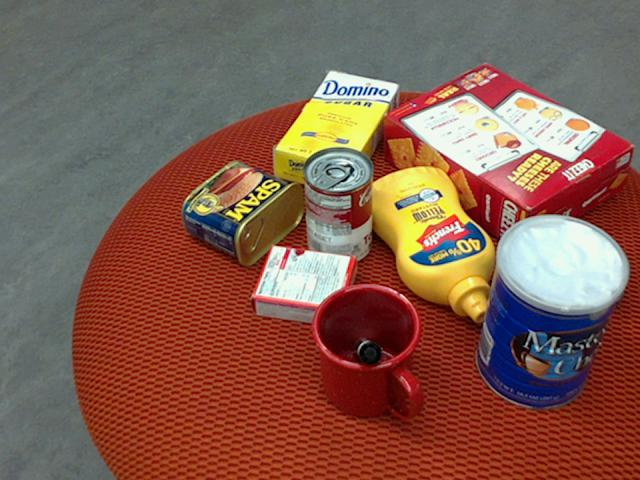cracker_box: (382, 62, 631, 252)
gelatin_box: (247, 244, 353, 330)
large_marker: (353, 337, 380, 365)
master_chef_can: (474, 216, 628, 411)
mug: (307, 284, 420, 420)
mustard_bottle: (361, 166, 494, 323)
potted_meat_can: (180, 159, 303, 265)
sugar_box: (272, 70, 398, 193)
tomato_soup_can: (302, 144, 373, 265)
tuna_fish_can: (534, 230, 629, 316)
